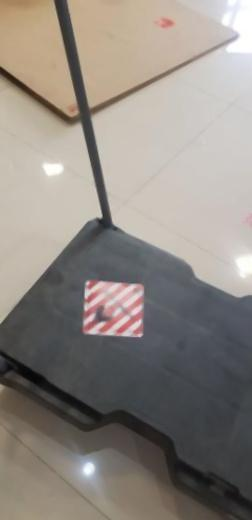flammable: (151, 15, 177, 31)
flammable-solid: (83, 280, 145, 339)
